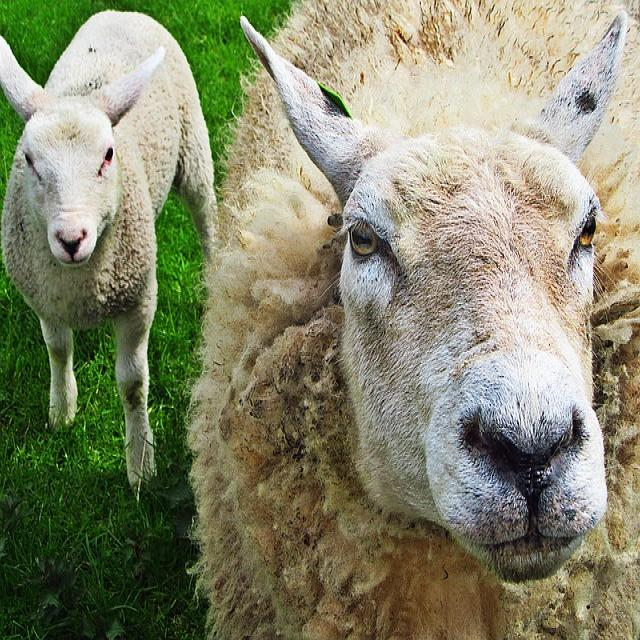goat: (189, 0, 640, 640), (0, 12, 215, 495)
